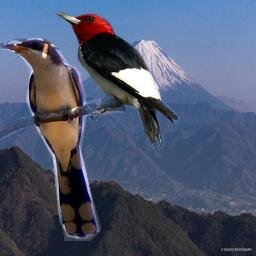Cuckoo: (0, 38, 101, 241)
Woodpecker: (52, 11, 183, 154)
